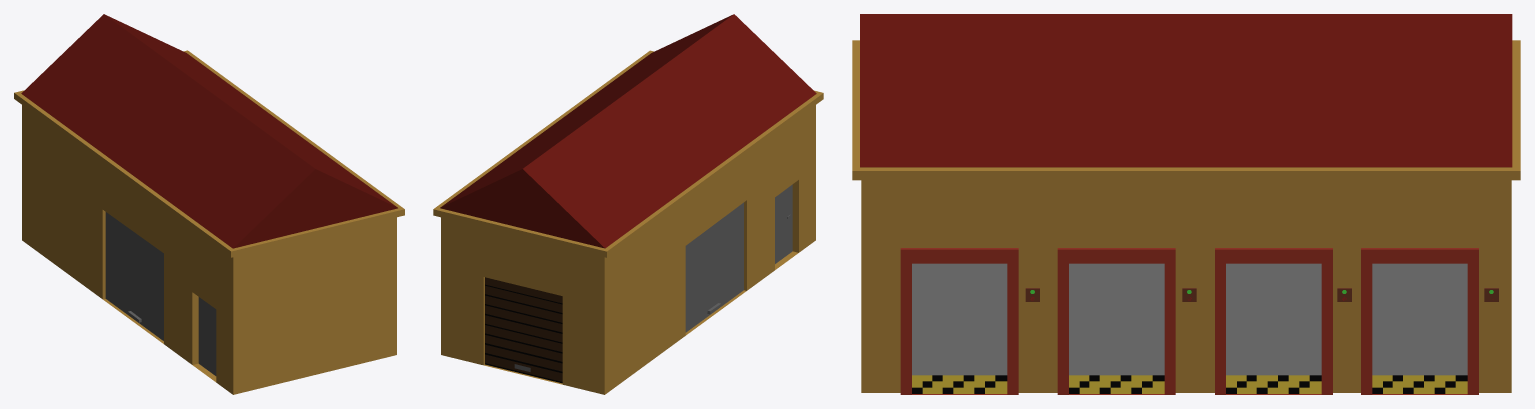
Rendered from Building_PortHouse.fbx.
3 views of the same model, side by side, from view 1: azimuth 30°, elevation 25°; view 2: azimuth 150°, elevation 25°; view 3: azimuth 270°, elevation 25° (orthographic). The views are drawn at different scales.
Parts seen in each view (by area): view 1: Cube; view 2: Cube; view 3: Cube, Plane, Plane.001.
Boxes of the visible parts, x1=… form: Cube: x1=14, y1=14, x2=404, y2=394; Cube: x1=433, y1=14, x2=823, y2=394; Cube: x1=852, y1=14, x2=1520, y2=392; Plane: x1=900, y1=248, x2=1478, y2=394; Plane.001: x1=1025, y1=288, x2=1498, y2=301.
Bounding box in the file's own units: 380 × 431 × 821.
